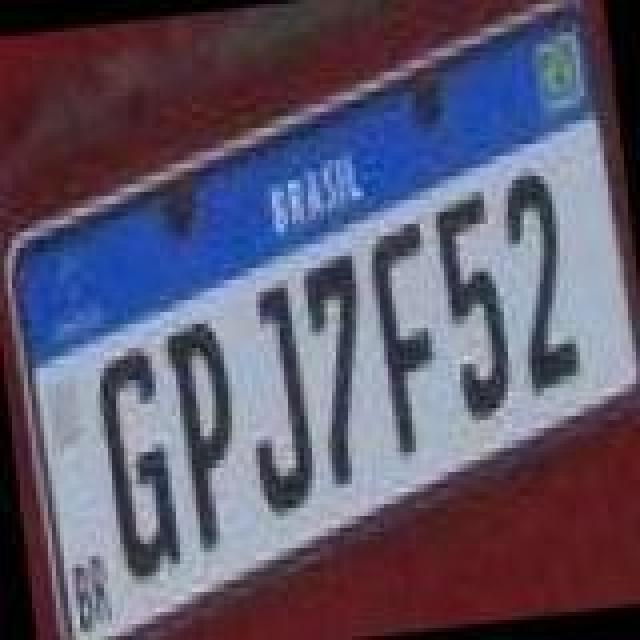2: (500, 164, 588, 396)
5: (426, 186, 518, 422)
7: (296, 250, 384, 486)
F: (366, 214, 450, 458)
G: (90, 344, 182, 584)
J: (226, 282, 318, 518)
P: (162, 316, 254, 556)
